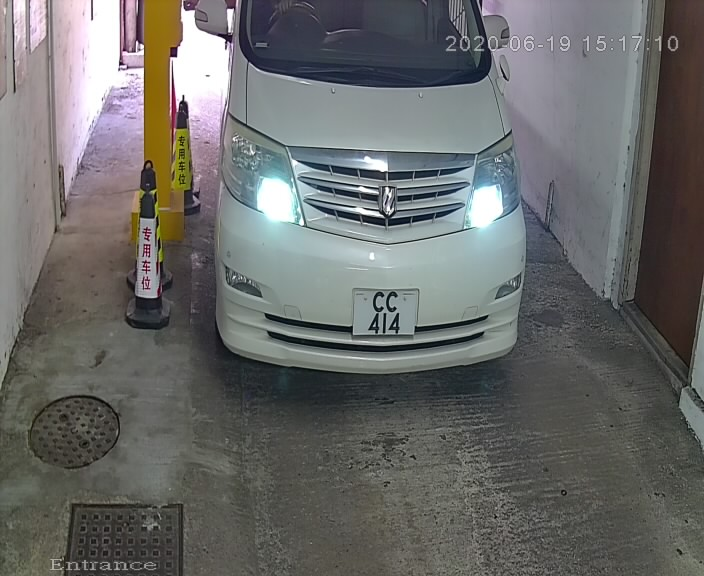privatecar: (217, 3, 529, 384)
